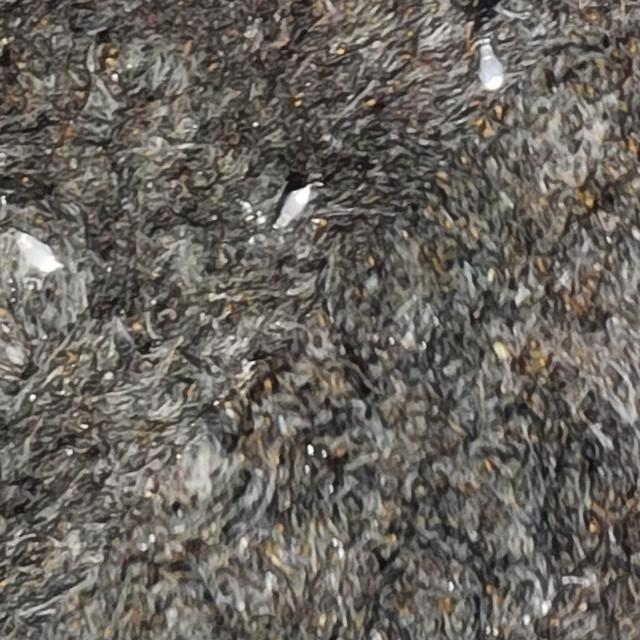umineko: (277, 190, 308, 223), (481, 48, 503, 87)
